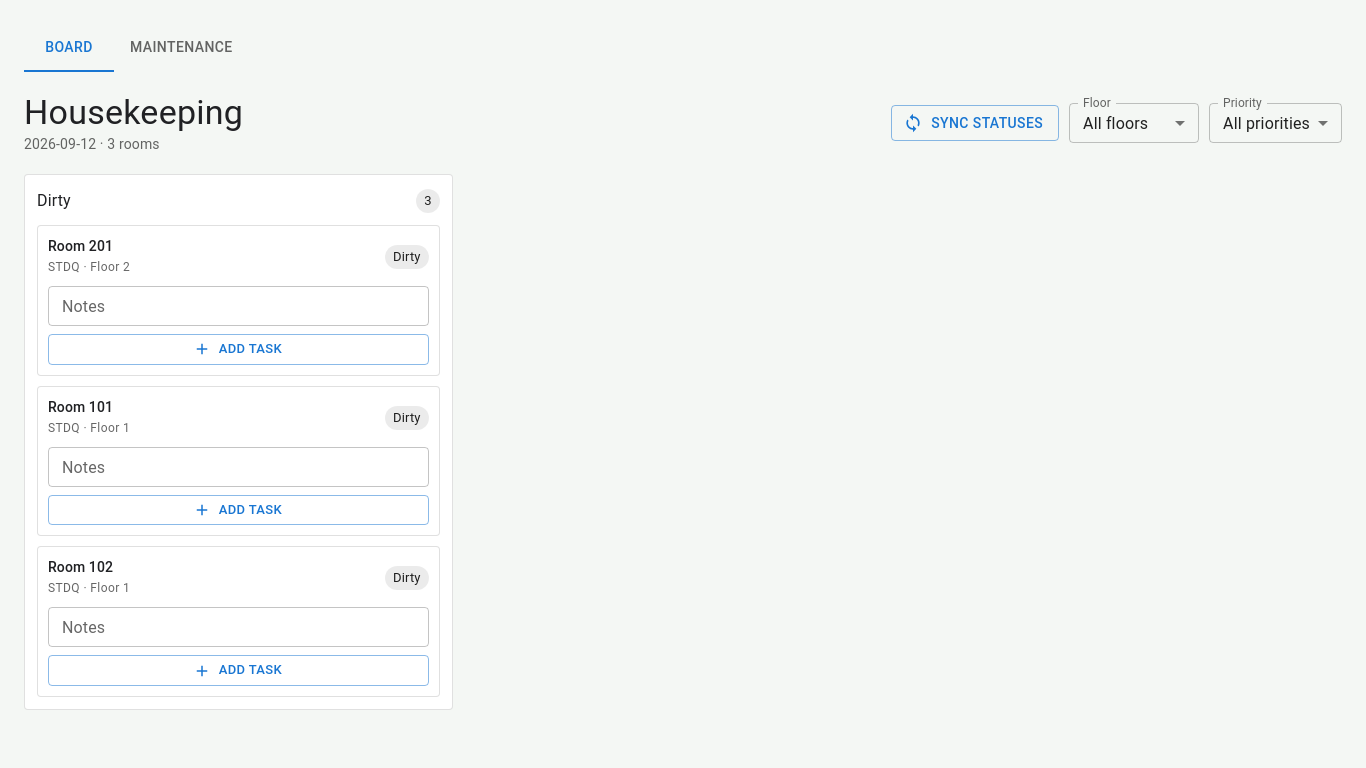
Test: HousekeepingPage board › filters rooms by floor
Press the mouse on the dropdown labelled "floor": (1116,123) x1=1083 y1=114 x2=1148 y2=132
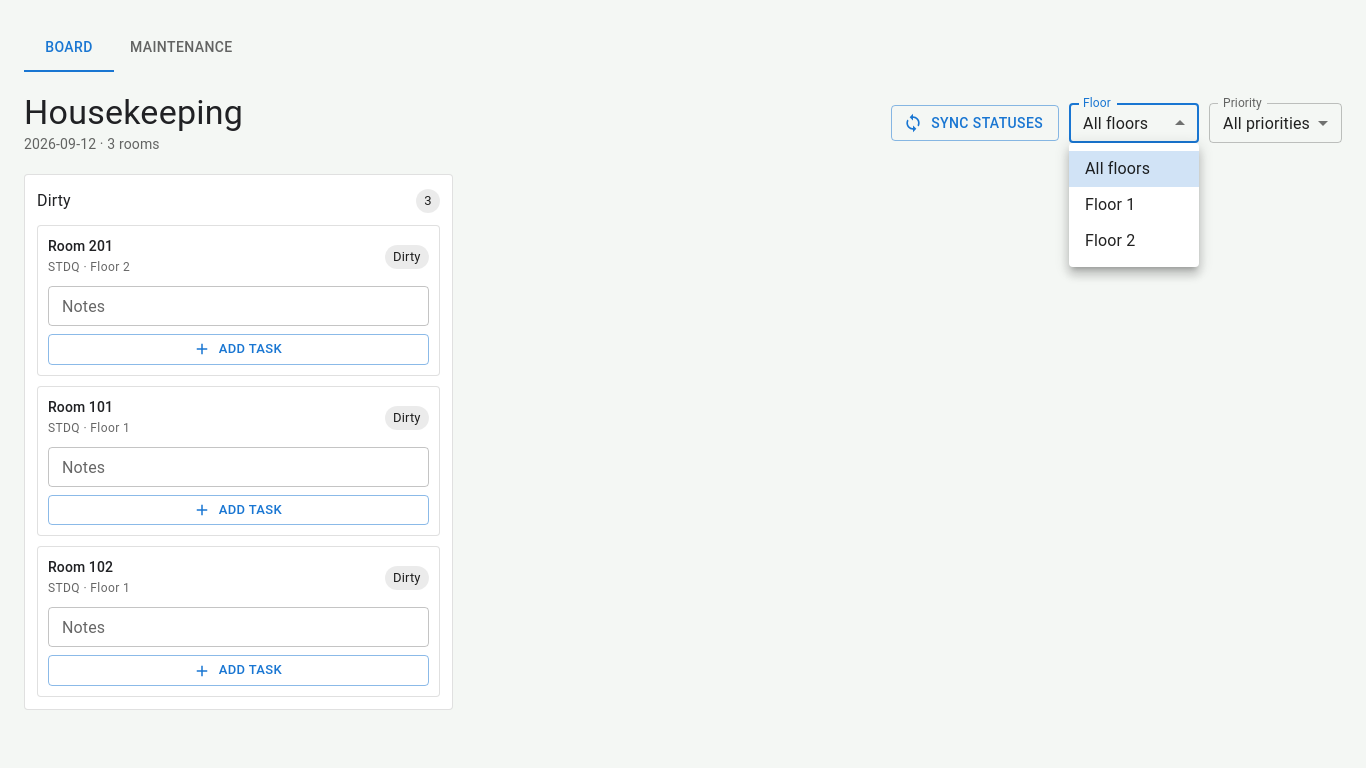
Click the option "Floor 1": (1110,204) x1=1085 y1=195 x2=1135 y2=214
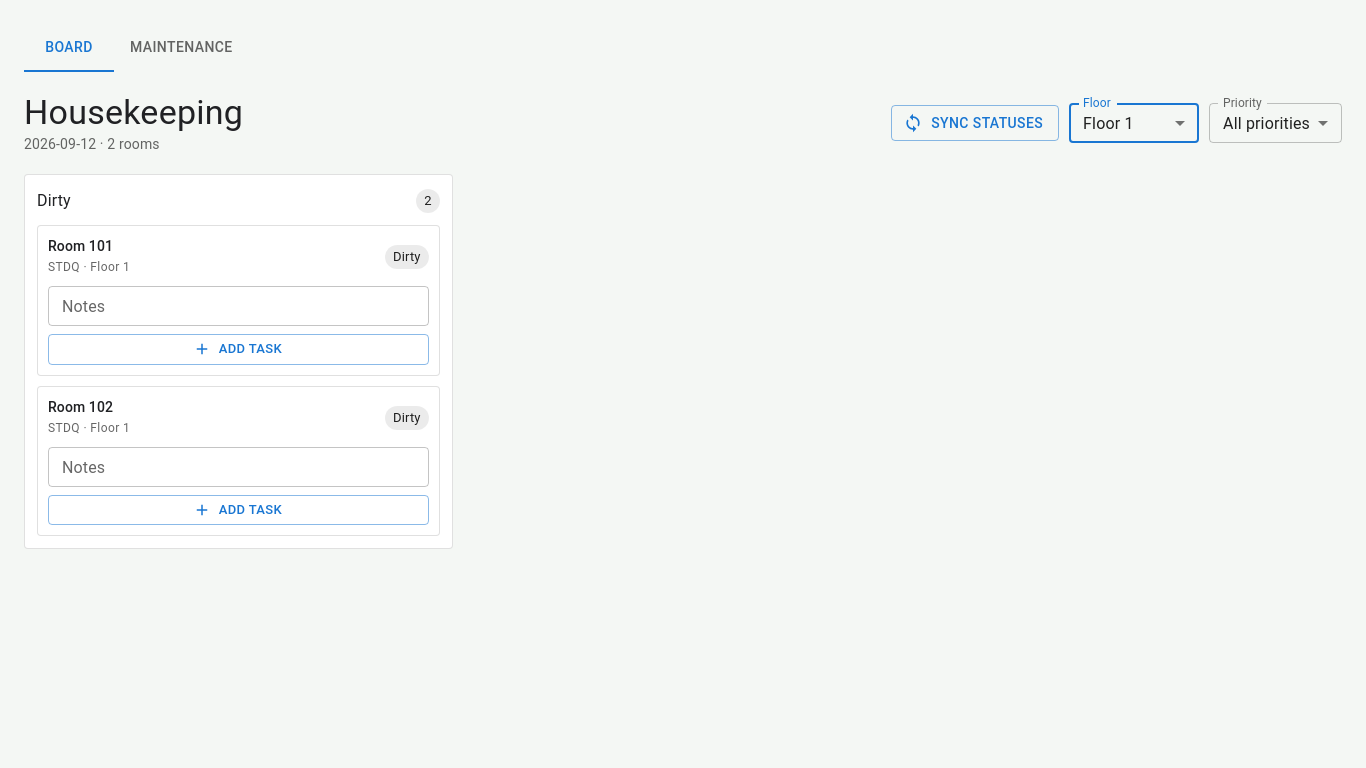
Check: the heading "Room 101" is shown, box x1=48 y1=238 x2=113 y2=254
Check: the heading "Room 201" is gone
